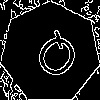Q: (25, 27, 85, 90)
